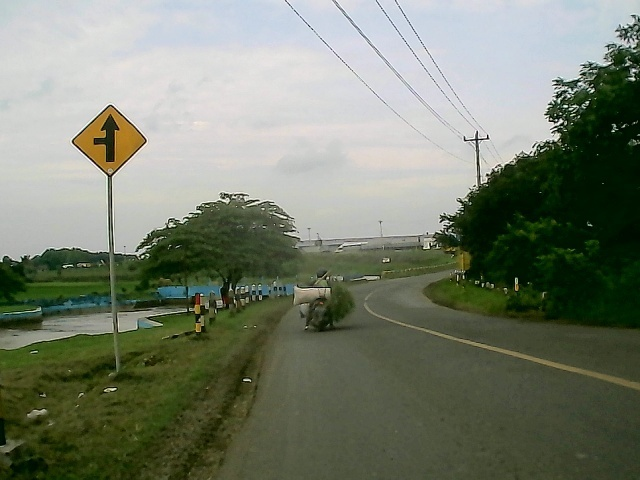Simpang kiri dengan prioritas: (69, 100, 154, 176)
